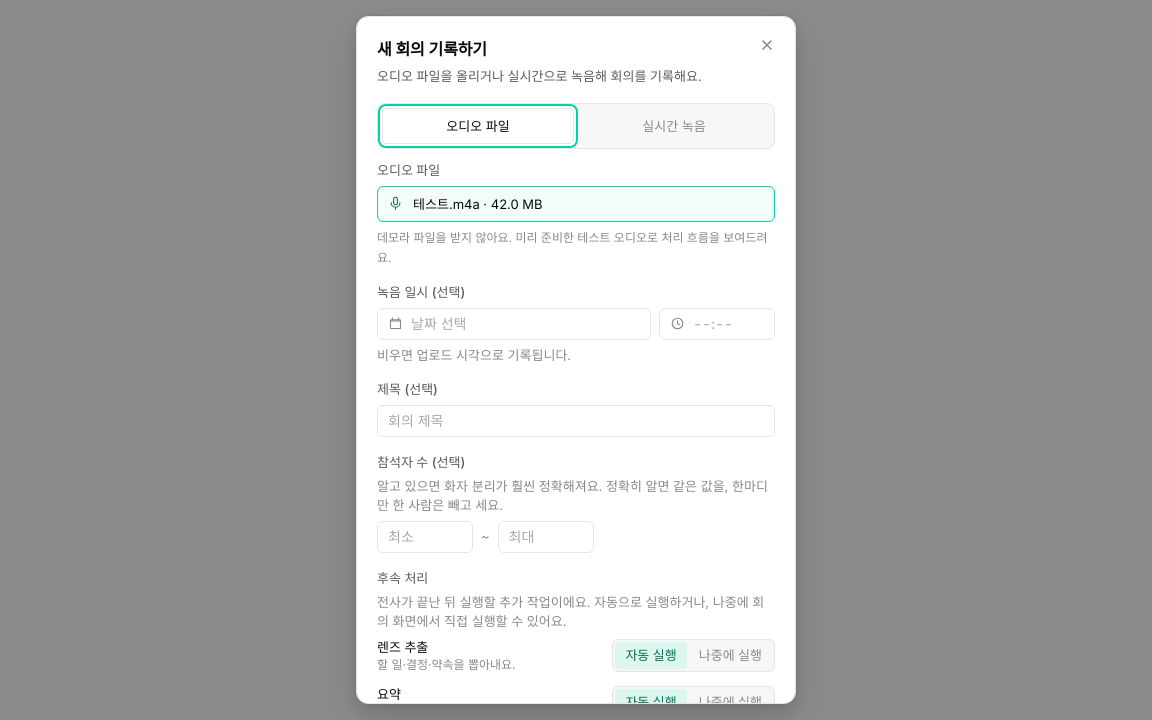
Test: 데모: 실시간 녹음 탭은 보이되 시작할 수 없다
Press the mouse on the tab "실시간 녹음" at [674, 126], box [578,108,770,144]
(page scrolled)
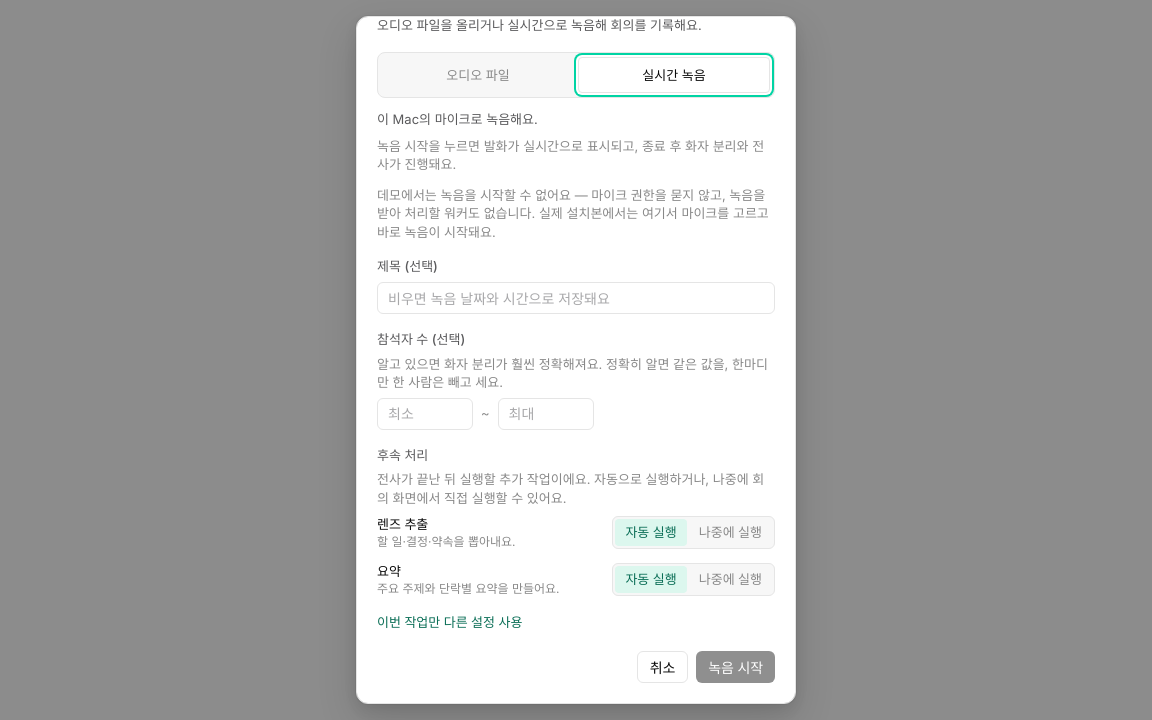
Check: the text "데모에서는 녹음을 시작할 수 없어요" is shown, box [377,187,769,240]
Check: the button "녹음 시작" is disabled, box [696,651,775,683]
